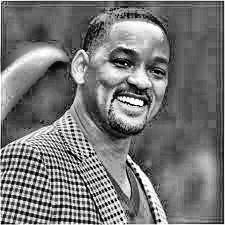happy: (76, 15, 182, 147)
